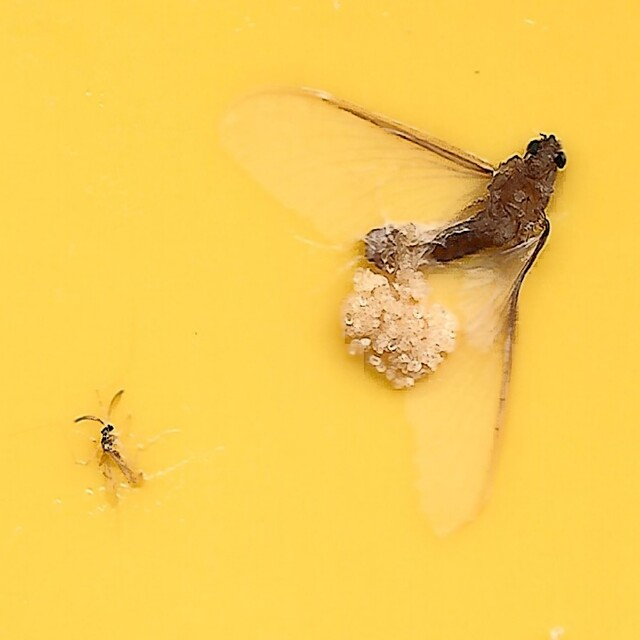Ephemeroptera: (220, 88, 567, 552)
Nematocera: (73, 385, 143, 498)
